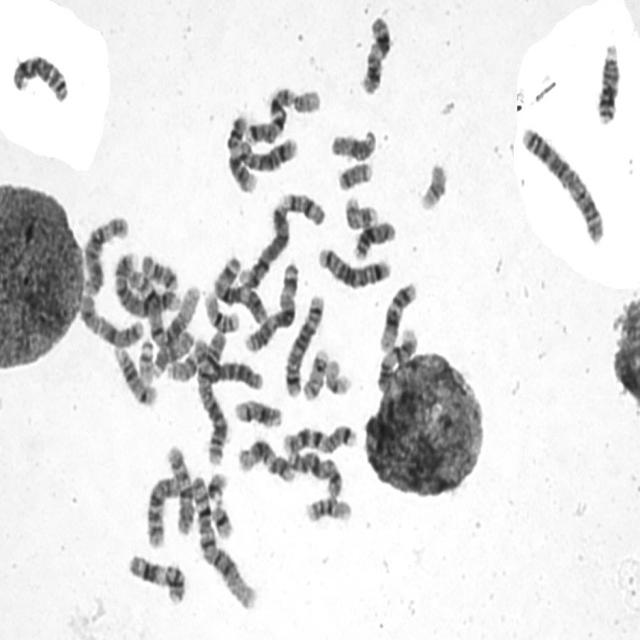A1: (187, 469, 259, 611), (123, 259, 198, 354)
A2: (517, 120, 607, 247), (192, 328, 231, 468)
A3: (241, 257, 300, 353), (209, 251, 271, 326)
B4: (235, 202, 290, 290), (110, 250, 182, 316)
B5: (281, 289, 326, 399), (314, 241, 392, 290)
C10: (142, 470, 188, 550), (162, 440, 195, 536)
C11: (124, 548, 188, 606), (357, 10, 393, 96)
C12: (233, 434, 297, 486), (376, 276, 418, 354)
C6: (79, 210, 130, 296), (190, 334, 265, 392)
C7: (242, 81, 296, 146), (279, 418, 359, 458)
C8: (8, 50, 70, 104), (234, 132, 300, 172)
C9: (373, 323, 420, 393), (222, 109, 260, 195)
D13: (594, 37, 622, 126), (350, 215, 398, 263)
D14: (110, 342, 160, 407), (230, 393, 284, 431)
D15: (149, 323, 196, 378), (328, 125, 378, 162)
E16: (199, 285, 241, 335), (301, 492, 353, 524)
E17: (299, 343, 329, 402), (341, 191, 379, 230)
E18: (278, 187, 326, 228), (138, 248, 179, 292)
F19: (416, 158, 450, 212), (322, 353, 354, 397)
F20: (334, 156, 374, 192), (165, 358, 201, 384)
G21: (207, 498, 235, 540), (203, 467, 230, 504)
G22: (134, 334, 156, 386), (286, 85, 323, 114)
X: (75, 288, 145, 349), (283, 446, 344, 500)
